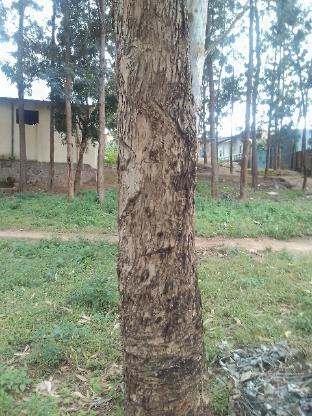tree: (98, 0, 224, 416)
